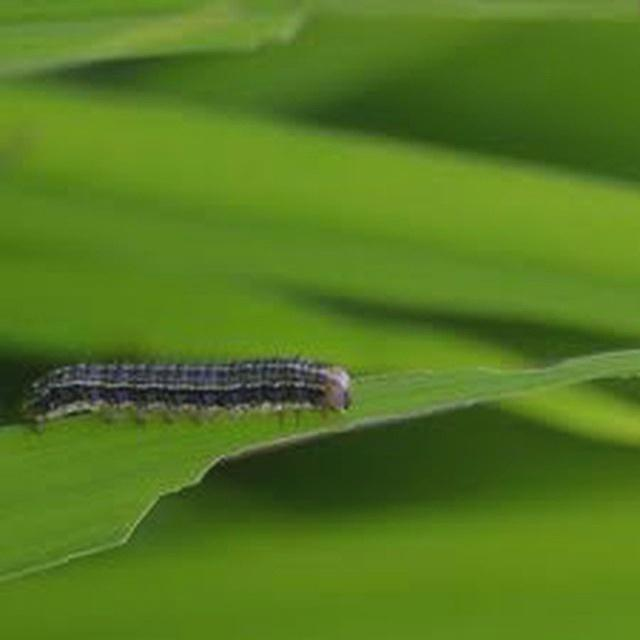gusano_cogollero: (18, 353, 358, 428)
